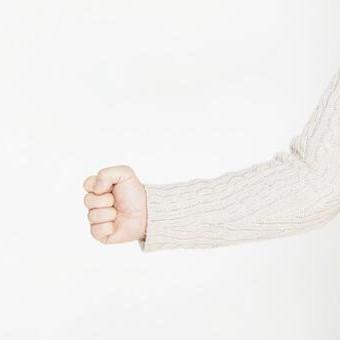gu-: (82, 164, 145, 245)
